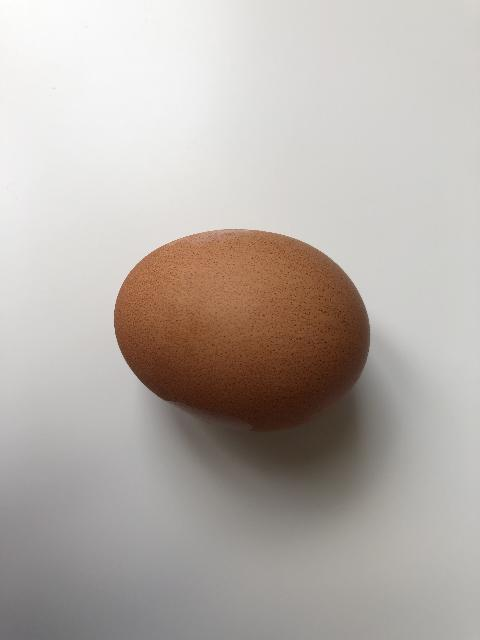Sano: (113, 227, 371, 433)
